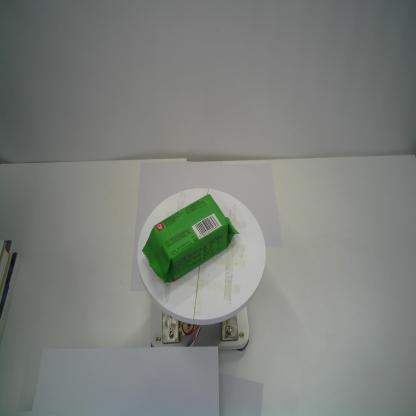Dessert: (142, 193, 240, 284)
